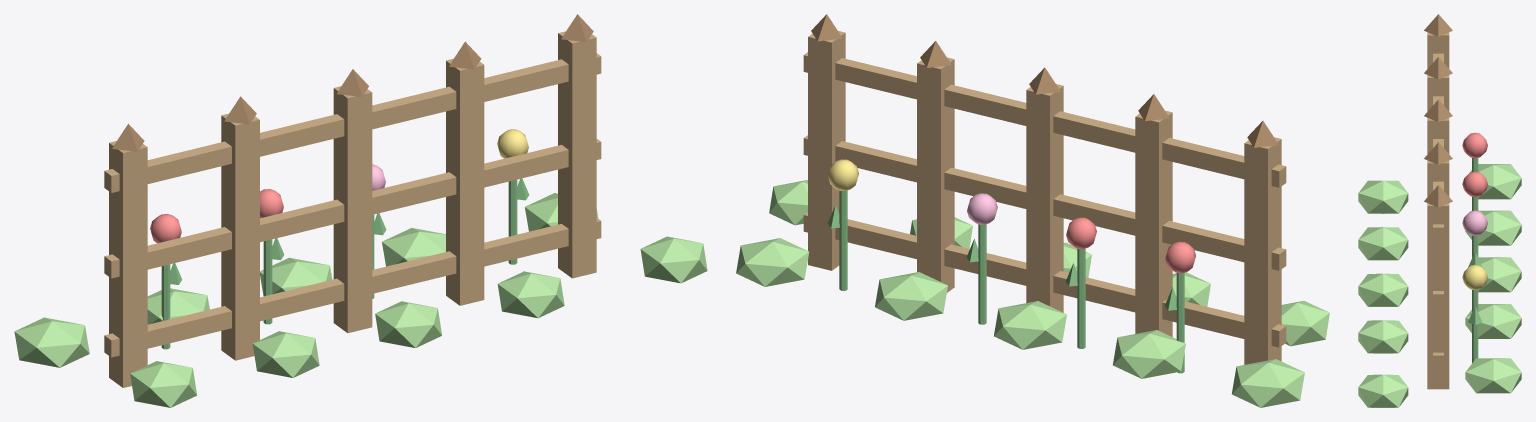
File: fence.glb
3 renders of one model, left to right at view 1: azimuth 30°, elevation 25°; view 2: azimuth 150°, elevation 25°; view 3: azimuth 270°, elevation 25°, orthographic. The views are drawn at different scales.
Visible parts, largest first — view 1: post.002, rail_top, rail_mid, rail_bot, post.003, post.004, post.001, post, grass, grass2.001, grass2, grass2.003 (+8 smaller); view 2: rail_top, rail_mid, post, post.003, post.002, post.001, post.004, rail_bot, grass.002, grass.003, grass.004, grass (+14 smaller); view 3: post.004, grass.004, grass2, grass2.001, grass2.003, grass.003, grass2.004, grass2.002, grass.001, grass, grass.002, post.001 (+16 smaller).
Part boxes in pixels (bbox=[...]): post.002: bbox=[333, 86, 372, 333]; rail_top: bbox=[104, 53, 601, 192]; rail_mid: bbox=[104, 139, 601, 278]; rail_bot: bbox=[104, 218, 601, 357]; post.003: bbox=[446, 58, 484, 305]; post.004: bbox=[558, 31, 596, 278]; post.001: bbox=[221, 113, 259, 360]; post: bbox=[109, 141, 147, 387]; grass: bbox=[14, 317, 89, 367]; grass2.001: bbox=[252, 331, 319, 377]; grass2: bbox=[130, 361, 197, 407]; grass2.003: bbox=[497, 271, 564, 318]; rail_top: bbox=[803, 52, 1286, 187]; rail_mid: bbox=[803, 135, 1286, 270]; post: bbox=[1244, 137, 1281, 364]; post.003: bbox=[917, 57, 954, 292]; post.002: bbox=[1026, 84, 1063, 312]; post.001: bbox=[1135, 110, 1172, 336]; post.004: bbox=[808, 31, 845, 270]; rail_bot: bbox=[803, 212, 1286, 347]; grass.002: bbox=[994, 301, 1066, 349]; grass.003: bbox=[875, 272, 947, 320]; grass.004: bbox=[736, 238, 809, 286]; grass: bbox=[1232, 359, 1304, 407]; post.004: bbox=[1427, 203, 1449, 389]; grass.004: bbox=[1465, 358, 1521, 393]; grass2: bbox=[1358, 180, 1408, 213]; grass2.001: bbox=[1358, 227, 1408, 260]; grass2.003: bbox=[1358, 320, 1408, 353]; grass.003: bbox=[1465, 304, 1521, 338]; grass2.004: bbox=[1358, 374, 1408, 407]; grass2.002: bbox=[1358, 273, 1408, 306]; grass.001: bbox=[1465, 210, 1521, 245]; grass: bbox=[1469, 164, 1521, 199]; grass.002: bbox=[1478, 257, 1521, 292]; post.001: bbox=[1427, 75, 1449, 111].
Bounding box in the file's own units: 3 × 1.2 × 0.8892.
